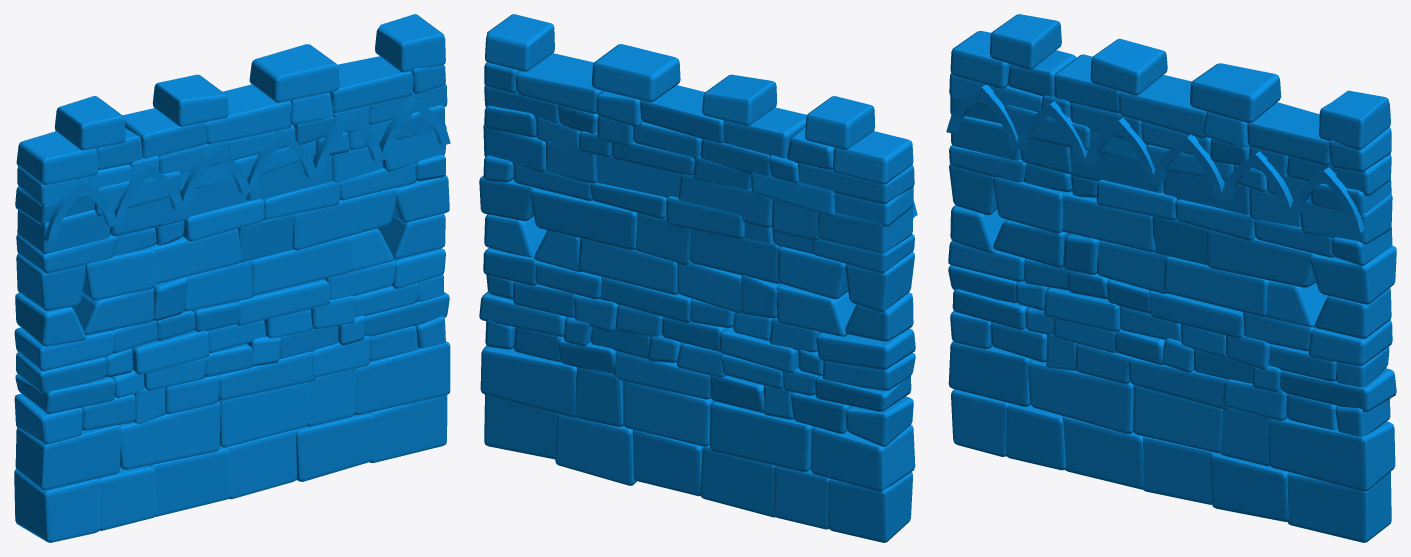
The model's file is bossarea_wall_straight.fbx.
3 views of the same model, side by side, from view 1: azimuth 30°, elevation 25°; view 2: azimuth 150°, elevation 25°; view 3: azimuth 330°, elevation 25° (orthographic). The views are drawn at different scales.
Visible parts, largest first — view 1: town_wall_straight; view 2: town_wall_straight; view 3: town_wall_straight.
Boxes of the visible parts, bbox=[...] form: town_wall_straight: bbox=[14, 14, 450, 542]; town_wall_straight: bbox=[479, 14, 917, 542]; town_wall_straight: bbox=[946, 14, 1396, 542].
Bounding box in the file's own units: 917 × 894 × 136.
